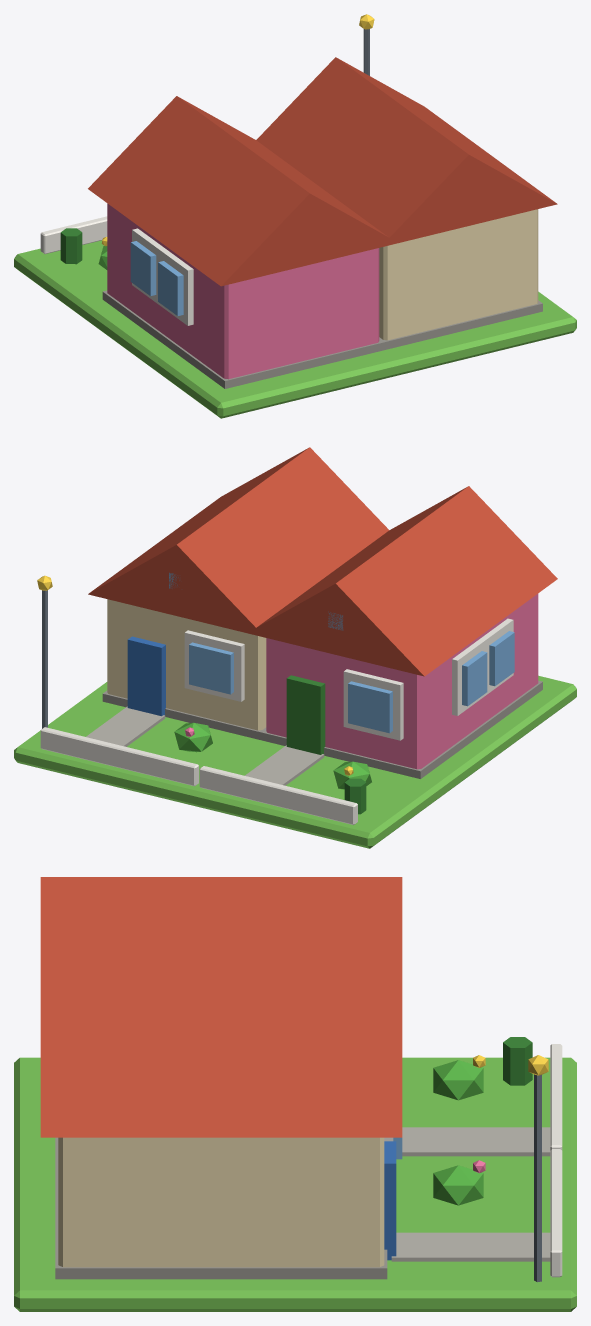
The model's file is kit-cidade-casas-geminadas.glb.
3 renders of one model, top to bottom at view 1: azimuth 30°, elevation 25°; view 2: azimuth 150°, elevation 25°; view 3: azimuth 270°, elevation 25°, orthographic. The views are drawn at different scales.
Parts seen in each view (by area): view 1: corpo; view 2: corpo; view 3: corpo.
Part boxes in pixels (x1,y1,x2,y2): corpo: [14, 14, 576, 418]; corpo: [14, 447, 576, 848]; corpo: [14, 877, 576, 1311].
Bounding box in the file's own units: 1.9 × 0.99 × 1.9.
